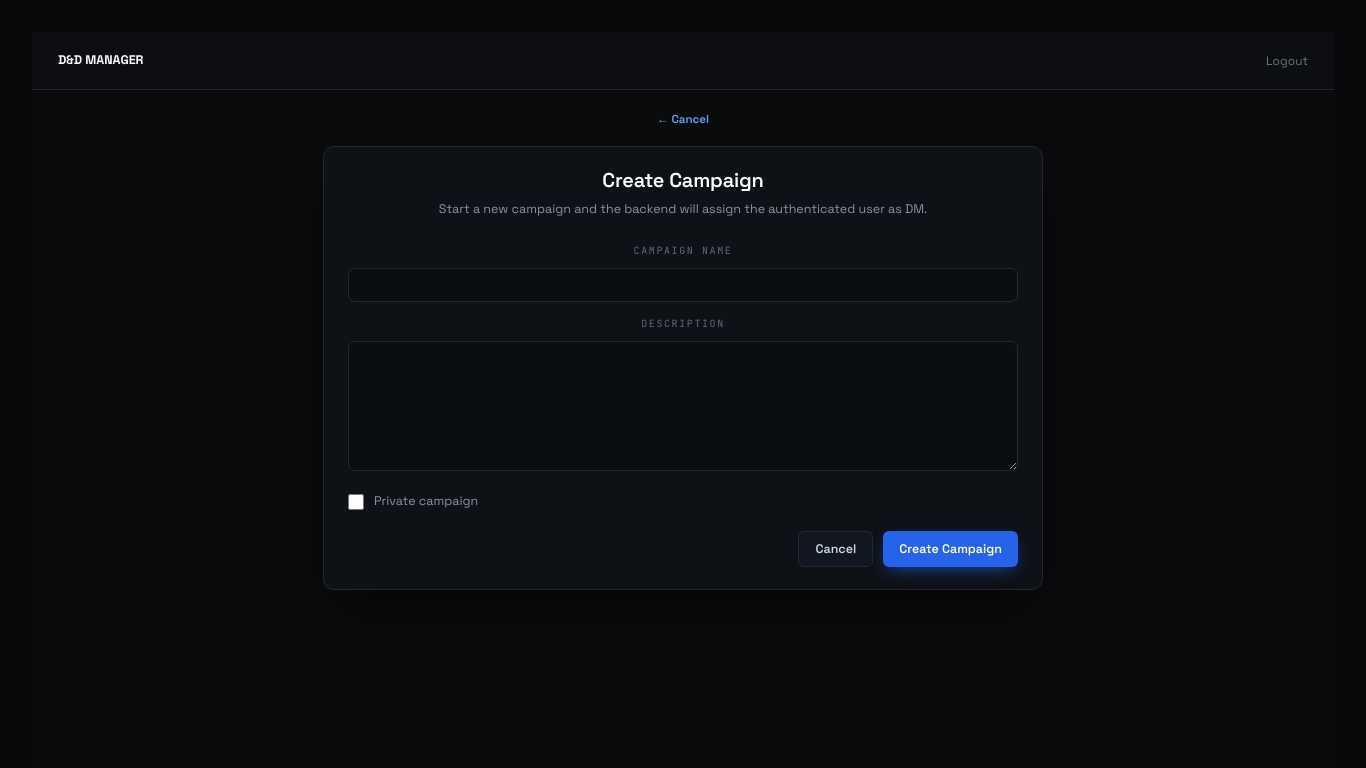
Test: CreateCampaign › shows required validation when the campaign name is blank
Click the button "Create Campaign" at coordinates (951, 549), box left=883, top=531, right=1018, bottom=567
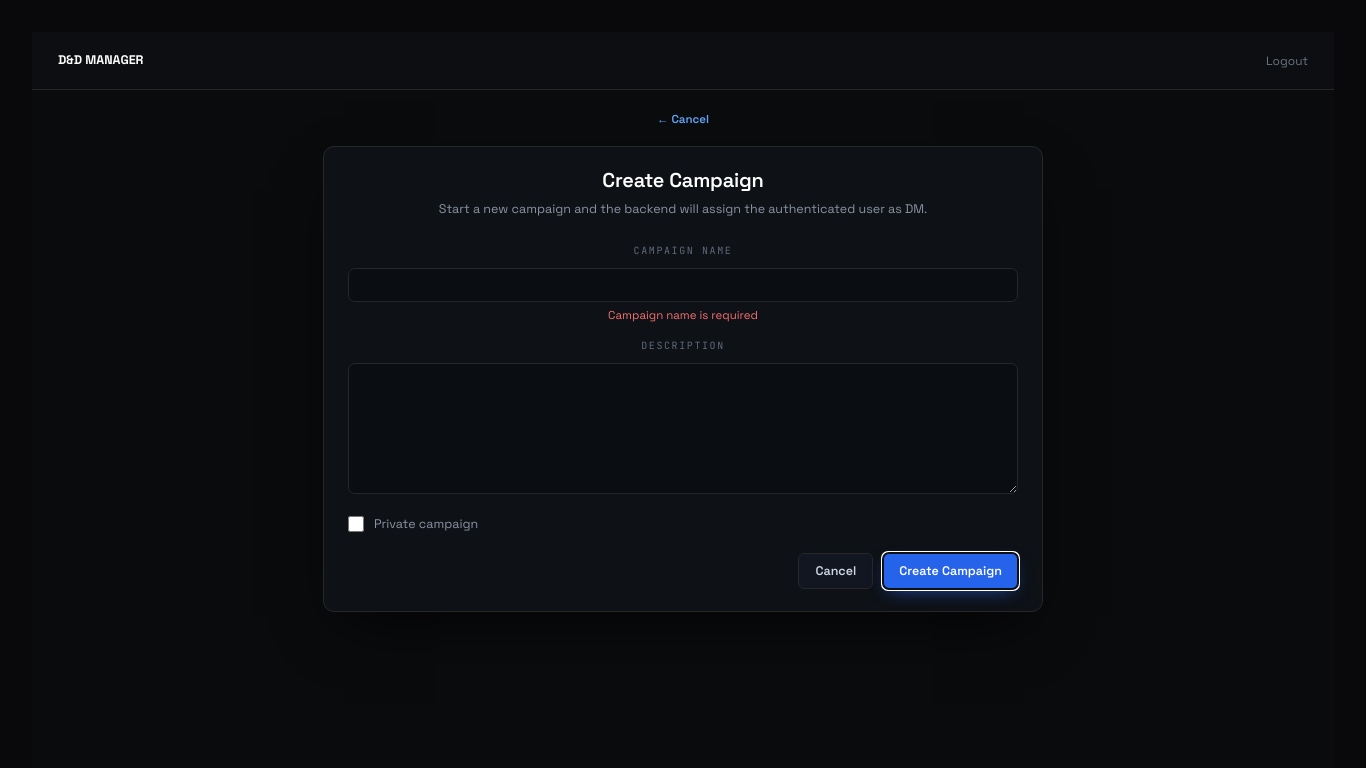
Result: the text "Campaign name is required" is shown at left=608, top=308, right=758, bottom=322
